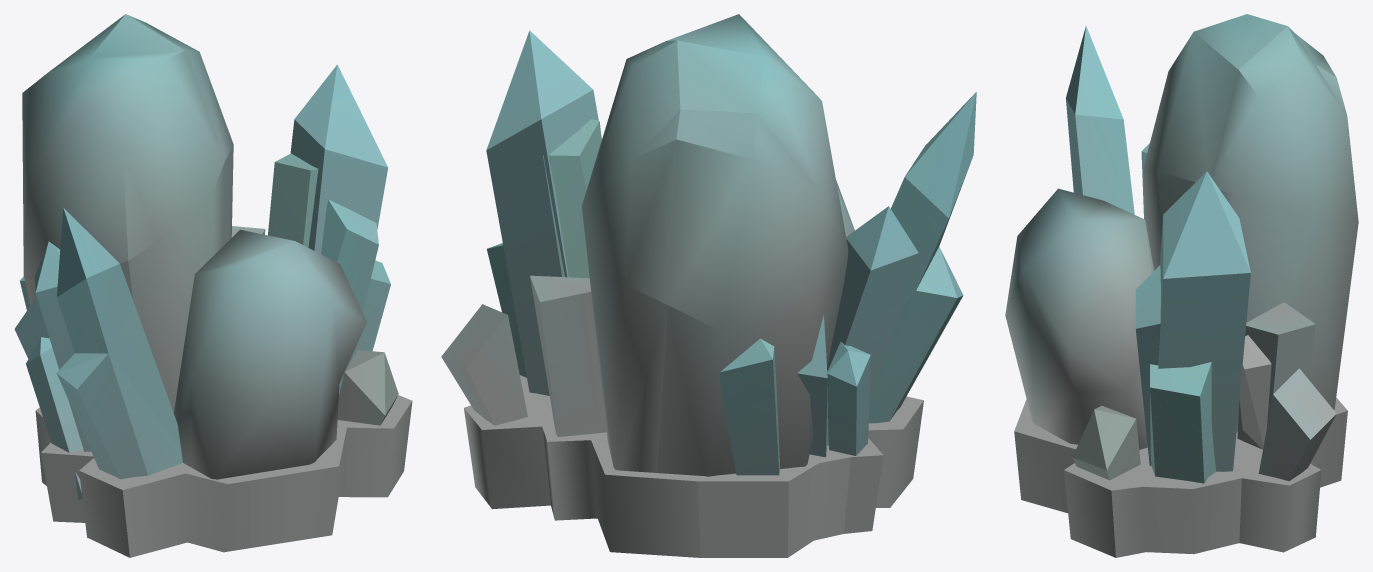
The picture shows the model from 3 angles, left to right: view 1: azimuth 30°, elevation 25°; view 2: azimuth 150°, elevation 25°; view 3: azimuth 270°, elevation 25°; orthographic projection. The views are drawn at different scales.
Parts seen in each view (by area): view 1: G:\FFXIV-MapTools\exports\u5f1\bg\ex4\04_uvs_u5\fld\u5f1\bgp (×2); view 2: G:\FFXIV-MapTools\exports\u5f1\bg\ex4\04_uvs_u5\fld\u5f1\bgp (×2); view 3: G:\FFXIV-MapTools\exports\u5f1\bg\ex4\04_uvs_u5\fld\u5f1\bgp (×2).
Boxes of the visible parts, x1,y1,x2,y2 form: G:\FFXIV-MapTools\exports\u5f1\bg\ex4\04_uvs_u5\fld\u5f1\bgp (×2): (14,14,412,557); G:\FFXIV-MapTools\exports\u5f1\bg\ex4\04_uvs_u5\fld\u5f1\bgp (×2): (441,14,976,557); G:\FFXIV-MapTools\exports\u5f1\bg\ex4\04_uvs_u5\fld\u5f1\bgp (×2): (1005,14,1358,557).
Bounding box in the file's own units: 2.07 × 2.32 × 1.69.
